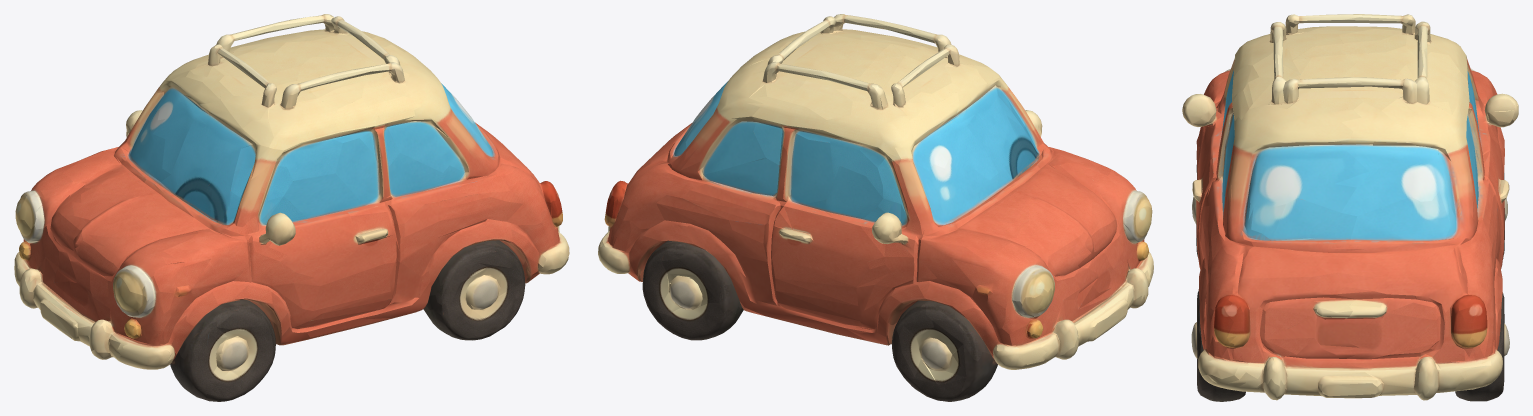
Rendered from model_urls_glb.glb.
3 views of the same model, side by side, from view 1: azimuth 30°, elevation 25°; view 2: azimuth 150°, elevation 25°; view 3: azimuth 270°, elevation 25° (orthographic). The views are drawn at different scales.
Bounding box in the file's own units: 1.9 × 1.05 × 1.1.
1 material, 1 textured.
